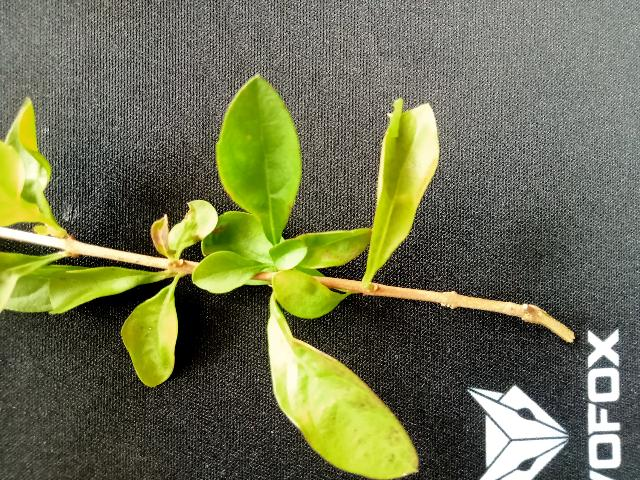pylokantus: (1, 72, 576, 478)
